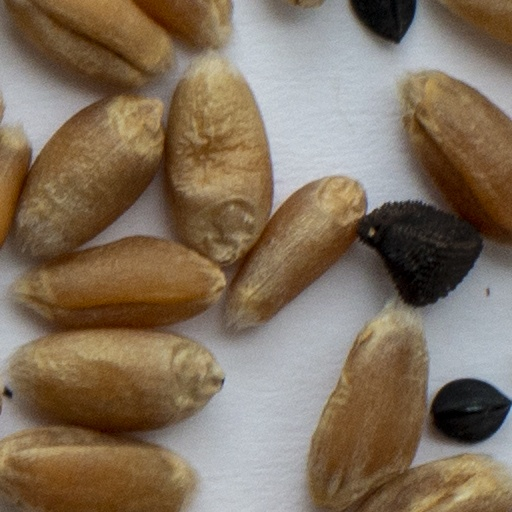Fallopia-Convolvulus-poly: (429, 374, 511, 448), (349, 0, 418, 47)
